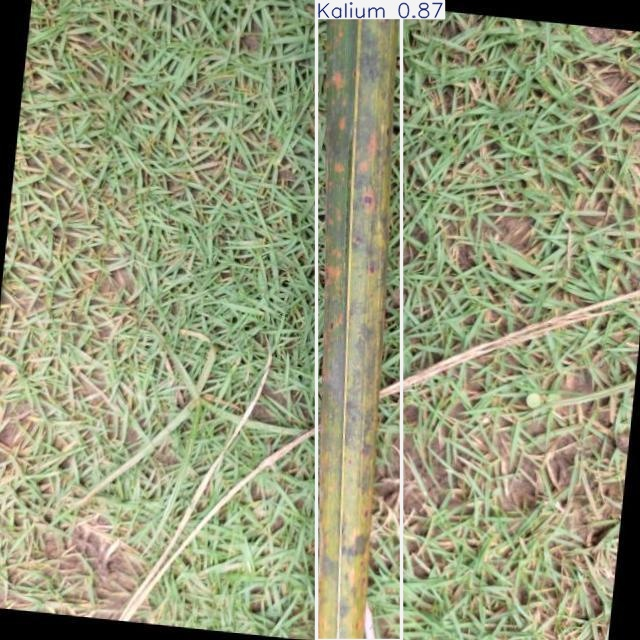Kalium: (316, 0, 402, 640)
